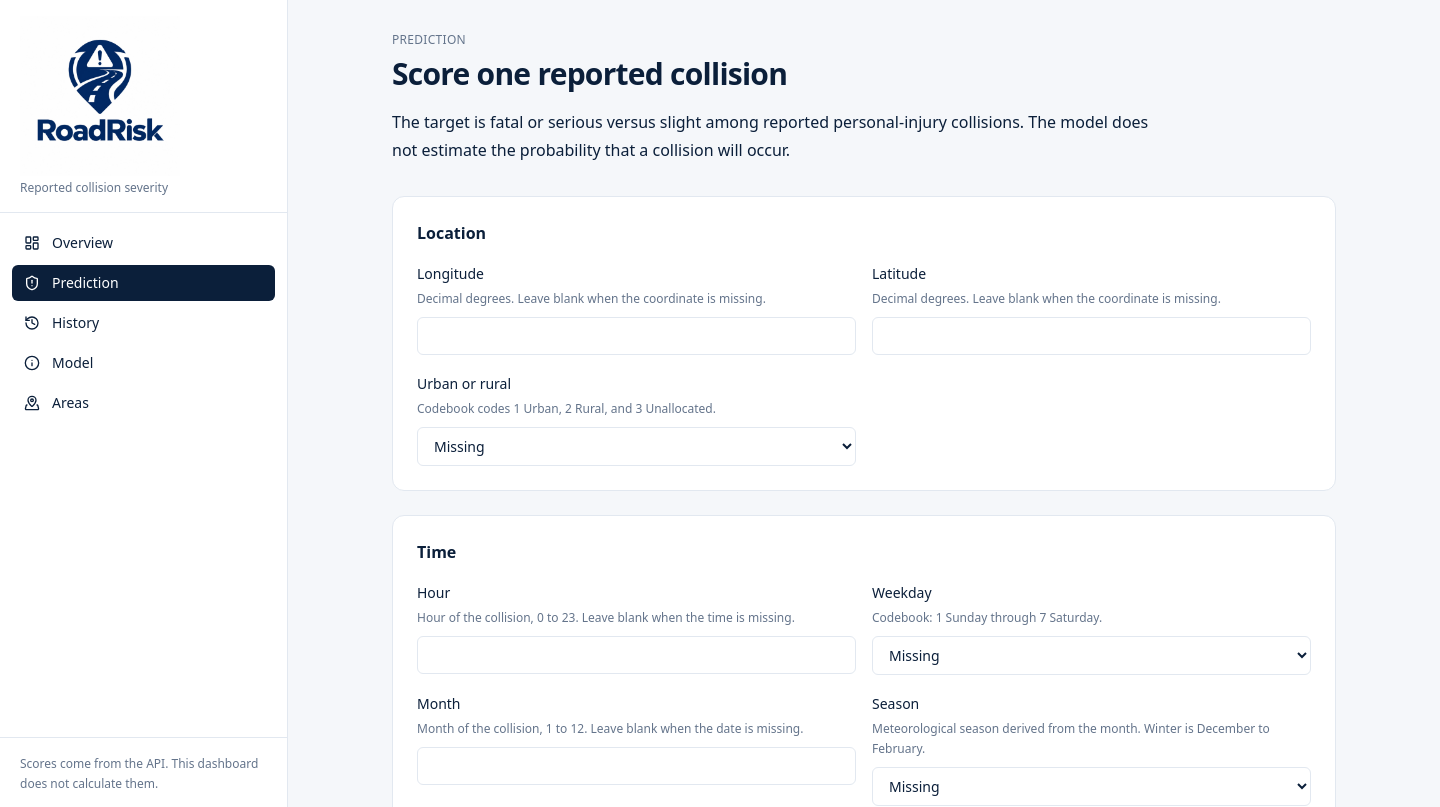
dashboard › renders a successful prediction from the API response
Select "1 — Sunday" in the dropdown labelled "Weekday" at x=1092, y=656, box 872,636 -> 1311,675
(page scrolled)
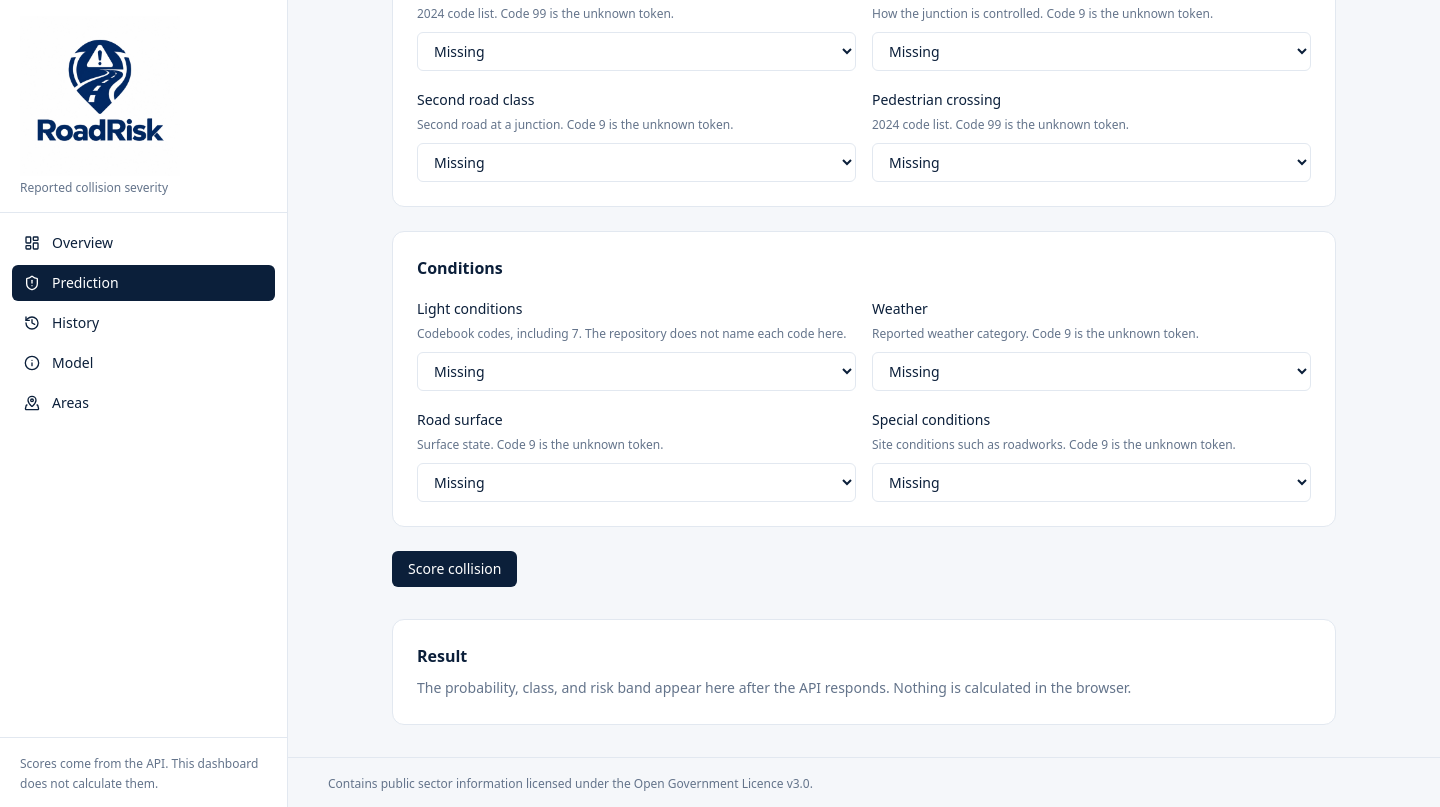
Click the button "Score collision" at x=455, y=569, box 392,551 -> 517,587
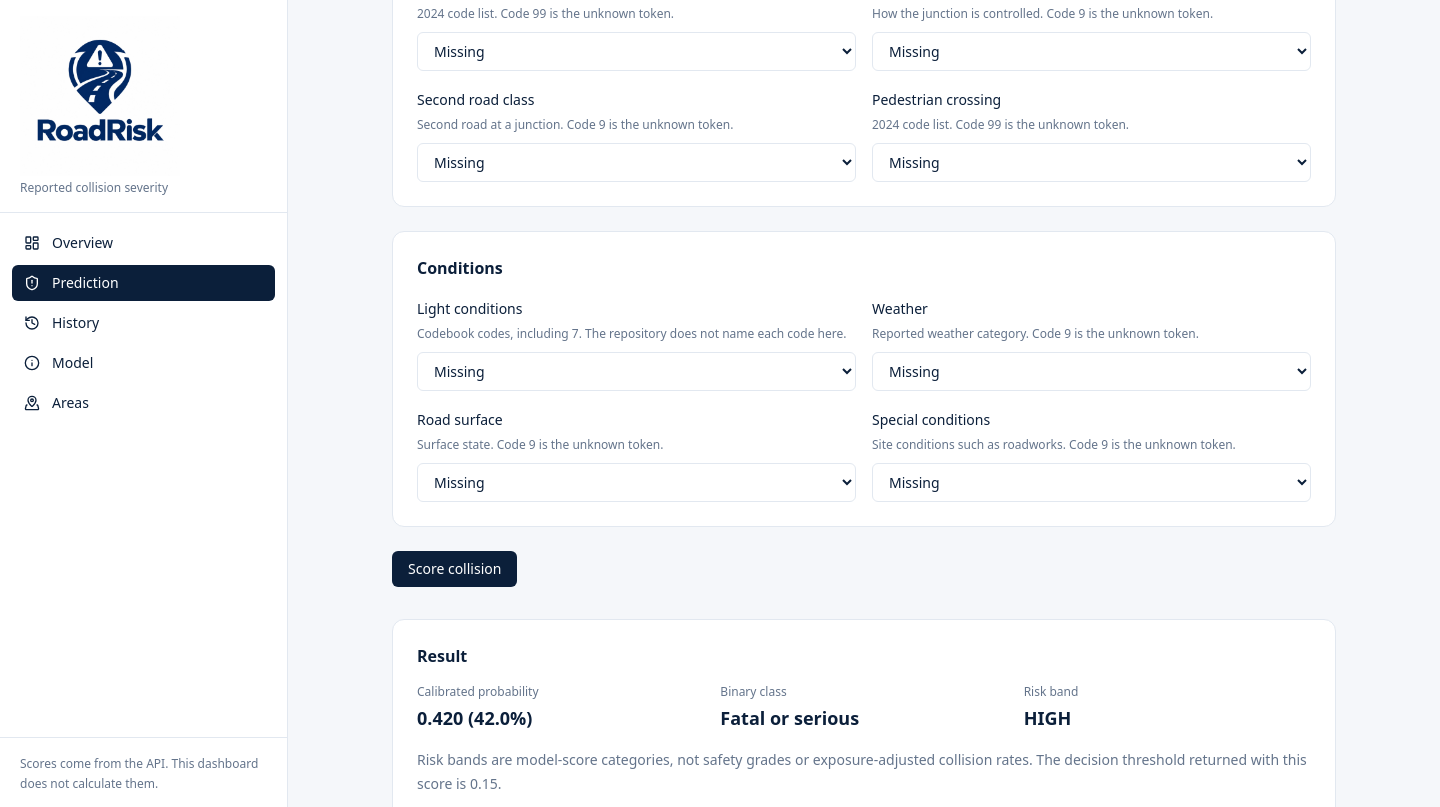
Now the text "0.420 (42.0%)" is shown, box 417,706 -> 532,730
Now the text "Fatal or serious" is shown, box 720,706 -> 859,730
Now the text "HIGH" is shown, box 1024,706 -> 1071,730
